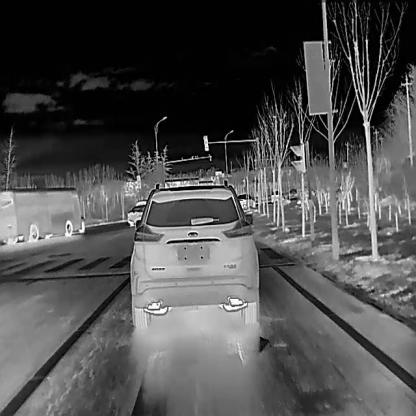bus: (0, 186, 86, 244)
car: (128, 178, 261, 330), (126, 203, 148, 225), (236, 192, 255, 209), (270, 189, 282, 200), (286, 188, 299, 198)
